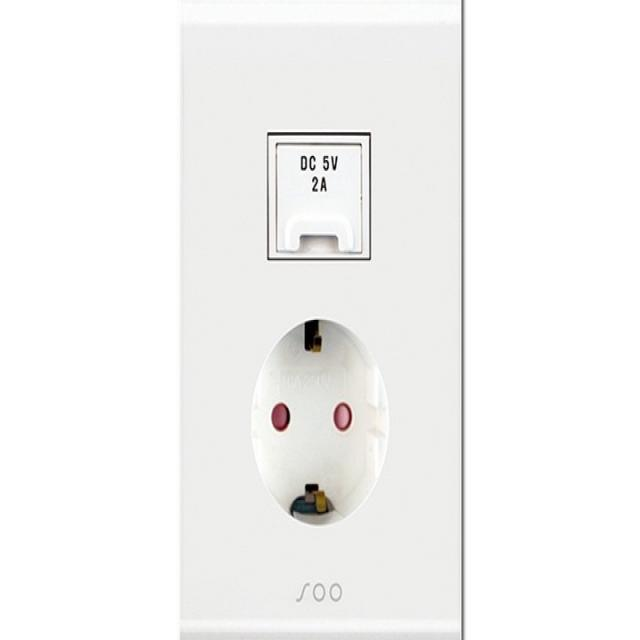typeb: (163, 14, 558, 640)
